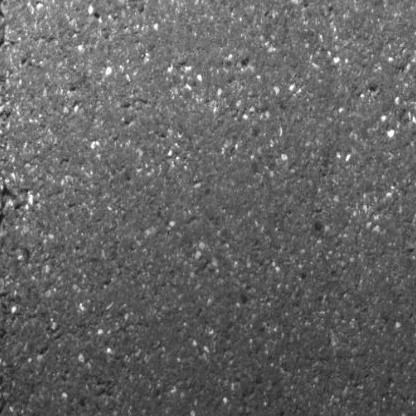Cracks: (0, 0, 9, 163), (0, 182, 15, 234)
